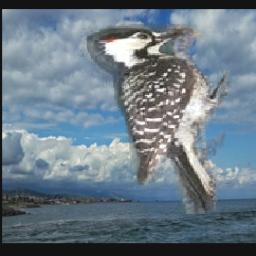Woodpecker: (81, 24, 239, 214)
